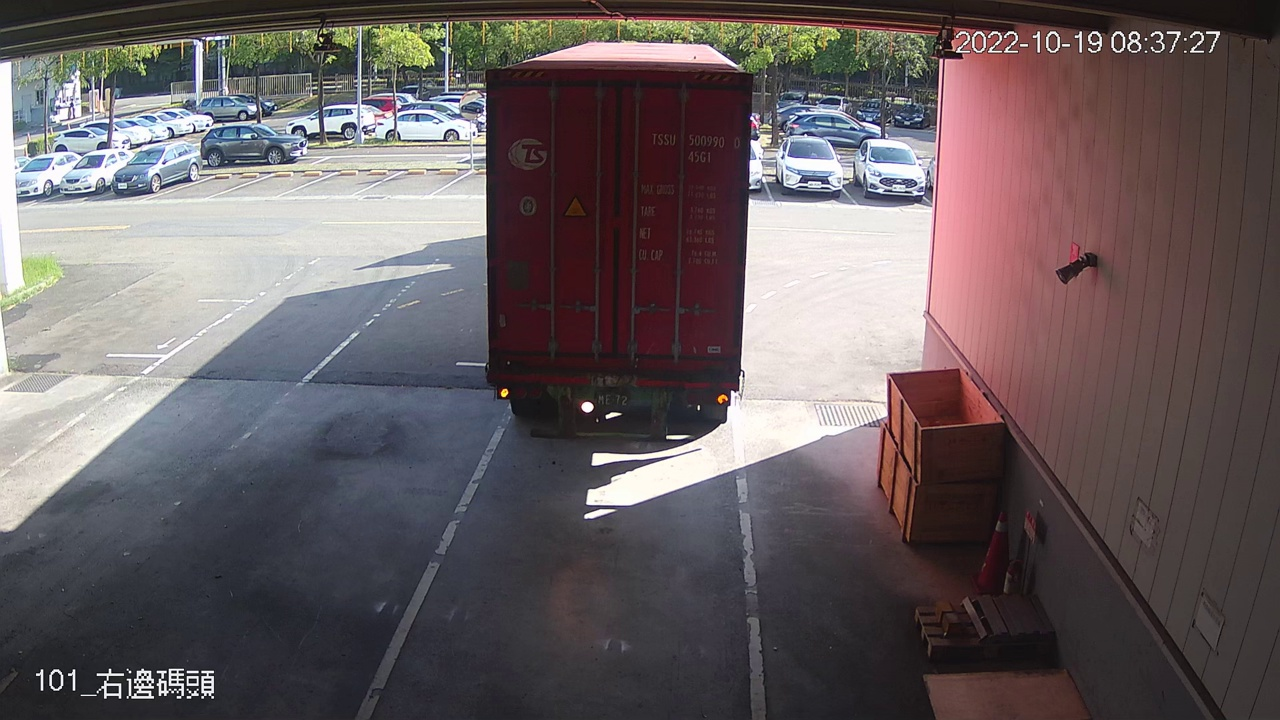container: (648, 130, 745, 168)
